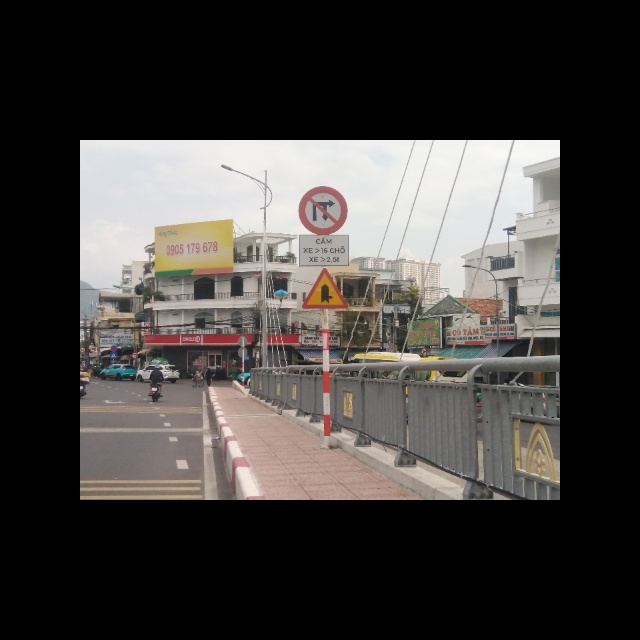Cấm quay đầu và rẽ phải: (298, 185, 348, 235)
Giao nhau với đường không ưu tiên: (303, 268, 348, 309)
